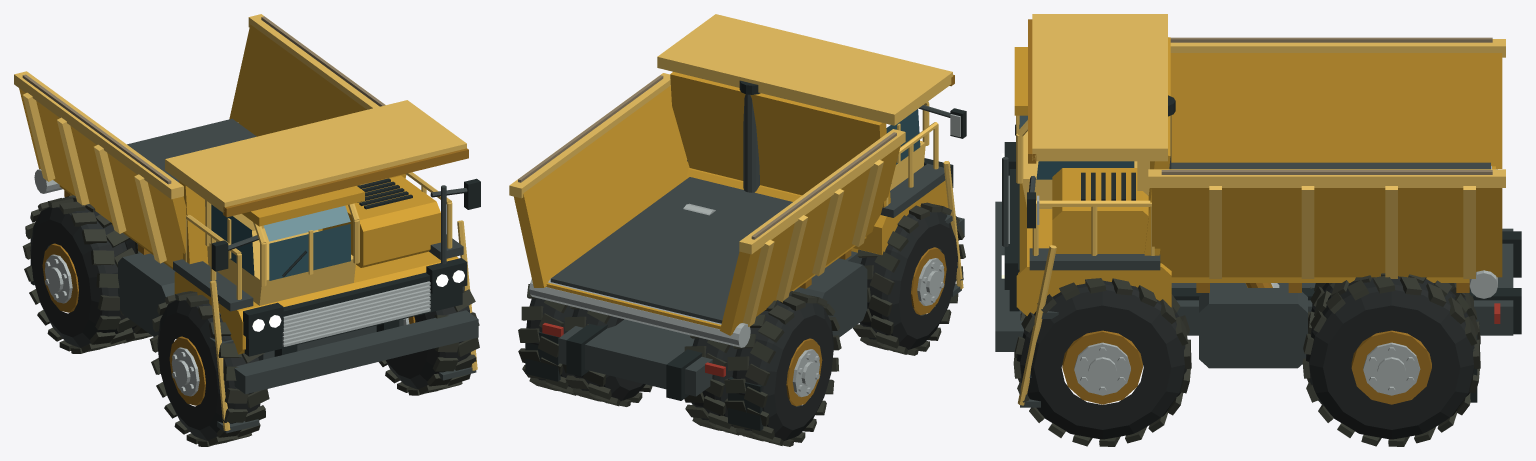
File: truck-optimized.glb
3 renders of one model, left to right at view 1: azimuth 30°, elevation 25°; view 2: azimuth 150°, elevation 25°; view 3: azimuth 270°, elevation 25°, orthographic. The views are drawn at different scales.
Parts seen in each view (by area): view 1: truck_material_5, truck_material_9, truck_material_1, truck_material_11, truck_material_10, truck_material_4, truck_material_0, truck_material_2, truck_material_8, truck_material_12, truck_material_7, truck_material_6; view 2: truck_material_9, truck_material_1, truck_material_5, truck_material_11, truck_material_10, truck_material_0, truck_material_4, truck_material_2, truck_material_12, truck_material_8, truck_material_3; view 3: truck_material_9, truck_material_5, truck_material_11, truck_material_1, truck_material_10, truck_material_2, truck_material_0, truck_material_4, truck_material_12, truck_material_8.
Boxes of the visible parts, left/top/right/bottom form: truck_material_5: left=14, top=14, right=477, bottom=430; truck_material_9: left=19, top=24, right=458, bottom=354; truck_material_1: left=118, top=118, right=478, bottom=433; truck_material_11: left=30, top=201, right=470, bottom=440; truck_material_10: left=22, top=195, right=479, bottom=446; truck_material_4: left=30, top=178, right=480, bottom=356; truck_material_0: left=34, top=122, right=430, bottom=396; truck_material_2: left=42, top=148, right=468, bottom=405; truck_material_8: left=211, top=204, right=350, bottom=280; truck_material_12: left=22, top=16, right=385, bottom=184; truck_material_7: left=263, top=205, right=350, bottom=241; truck_material_6: left=252, top=270, right=464, bottom=331; truck_material_9: left=514, top=72, right=948, bottom=335; truck_material_1: left=550, top=94, right=964, bottom=396; truck_material_5: left=509, top=14, right=963, bottom=326; truck_material_11: left=526, top=212, right=957, bottom=440; truck_material_10: left=518, top=202, right=965, bottom=446; truck_material_0: left=529, top=114, right=960, bottom=397; truck_material_4: left=525, top=80, right=966, bottom=430; truck_material_2: left=786, top=74, right=954, bottom=406; truck_material_12: left=518, top=75, right=896, bottom=239; truck_material_8: left=886, top=109, right=920, bottom=164; truck_material_3: left=542, top=323, right=725, bottom=377; truck_material_9: left=1014, top=37, right=1502, bottom=315; truck_material_5: left=1016, top=14, right=1505, bottom=405; truck_material_11: left=1016, top=276, right=1474, bottom=439; truck_material_1: left=995, top=115, right=1513, bottom=407; truck_material_10: left=1013, top=273, right=1480, bottom=446; truck_material_2: left=1028, top=19, right=1469, bottom=404; truck_material_0: left=1008, top=166, right=1497, bottom=395; truck_material_4: left=1004, top=95, right=1521, bottom=402; truck_material_12: left=1161, top=37, right=1492, bottom=174; truck_material_8: left=1019, top=125, right=1134, bottom=179.
Size of the model in its own units: 4.2 by 3.91 by 6.28.
